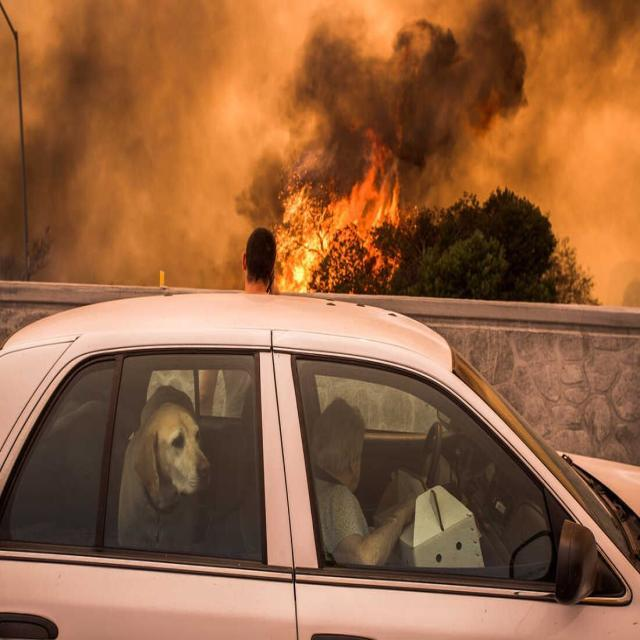Fire: (274, 127, 418, 294)
Smoke: (0, 0, 243, 287), (238, 0, 528, 226), (527, 0, 640, 309)
